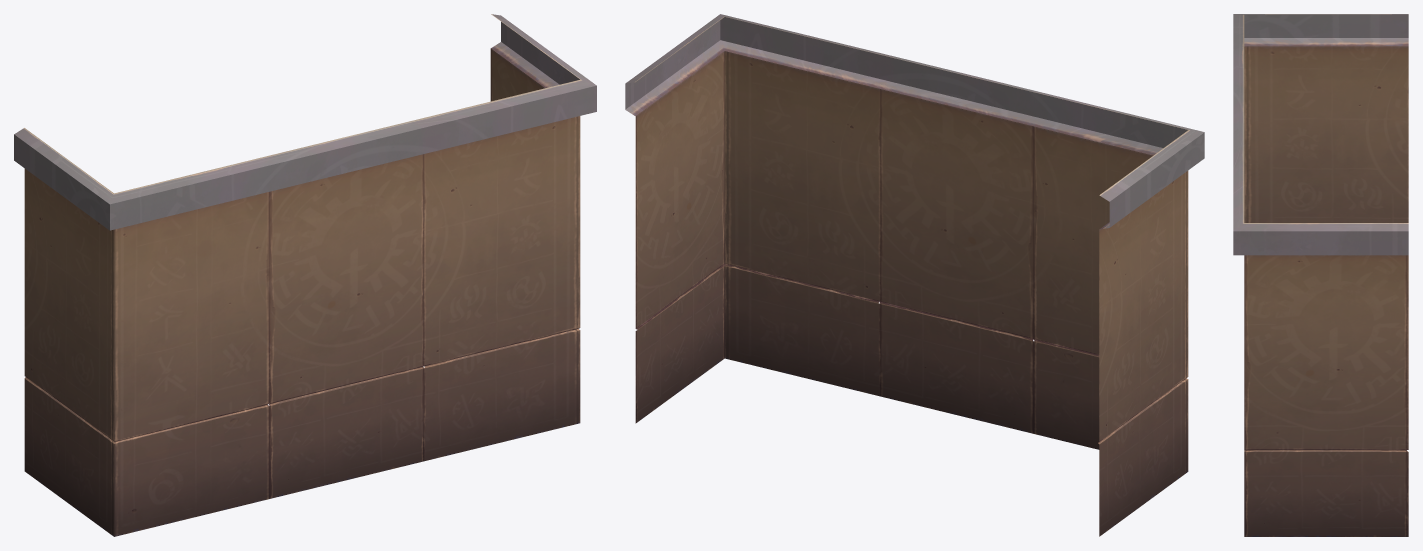
Rendered from prop_ArenaWall.fbx.
3 views of the same model, side by side, from view 1: azimuth 30°, elevation 25°; view 2: azimuth 150°, elevation 25°; view 3: azimuth 270°, elevation 25° (orthographic). The views are drawn at different scales.
Parts seen in each view (by area): view 1: prop_ArenaWall; view 2: prop_ArenaWall; view 3: prop_ArenaWall.
Part boxes in pixels (<box>): prop_ArenaWall: <box>14,14,596,536</box>; prop_ArenaWall: <box>625,14,1204,536</box>; prop_ArenaWall: <box>1233,14,1408,536</box>.
Size of the model in its own units: 2856 by 1925 by 972.
